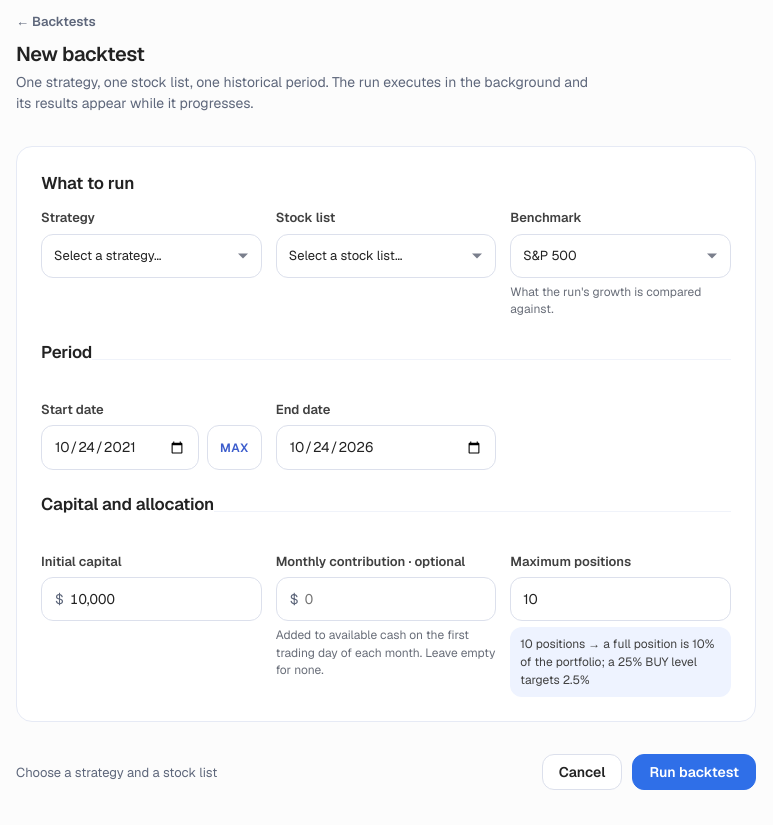
NewBacktestForm with the point-in-time index universe › lets Pro run the S&P 500 universe and says what its membership means
This screenshot has width=773, height=825.
Select "S&P 500 — Historical PIT" in the dropdown labelled "Stock list": (386, 256) [276,234,496,278]
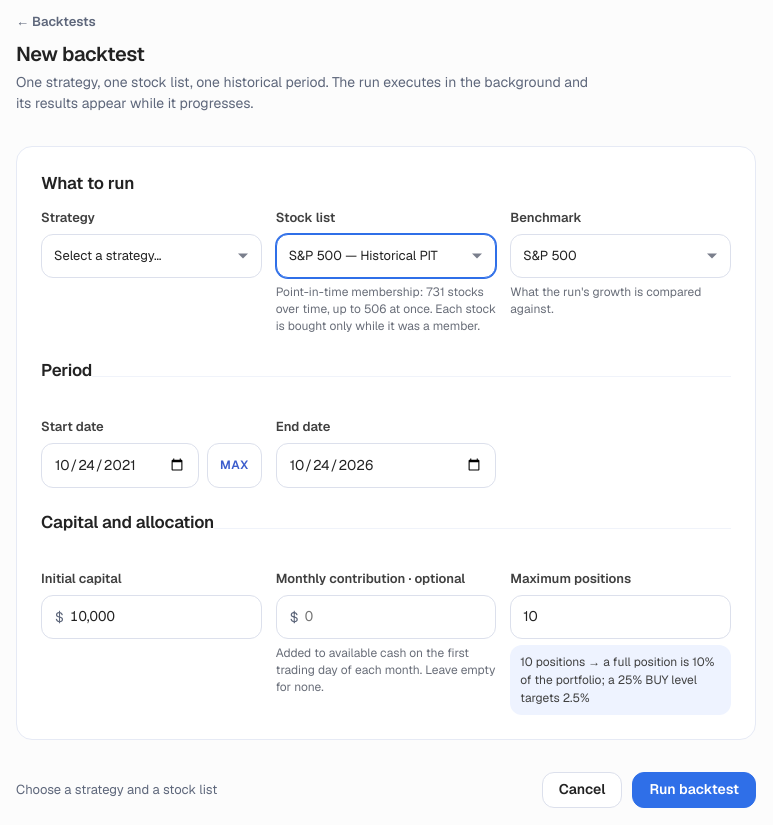
Expected: the text with test id "backtest-universe-summary" shows "731 stocks over time, up to 506 at once", [276,284,496,336]
